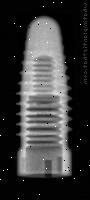Camlog: (17, 14, 73, 177)
